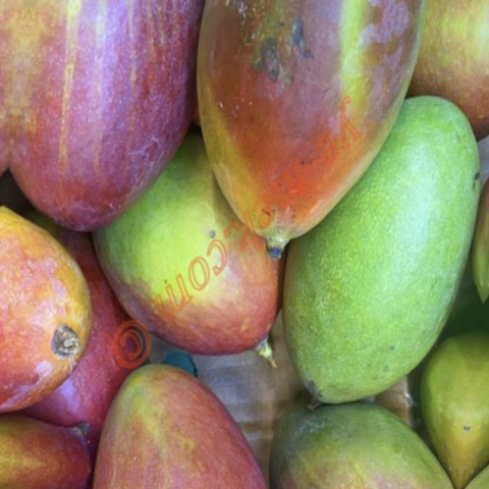mango: (261, 62, 489, 456), (158, 0, 434, 280), (70, 114, 319, 411), (0, 0, 224, 295)
